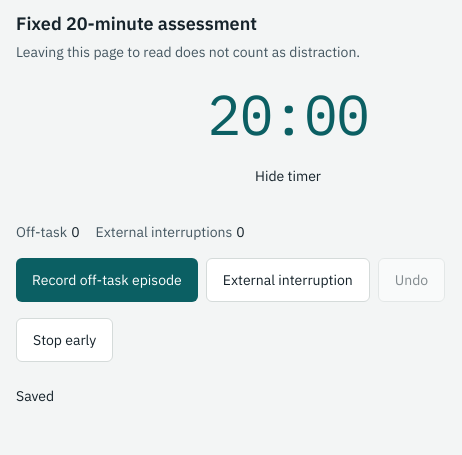
Test: Running › a failed Undo of a sent event renders inside an alert, colored for attention (U15a), message unchanged
Click the button "Record off-task episode": (107, 280) [16,258,198,302]
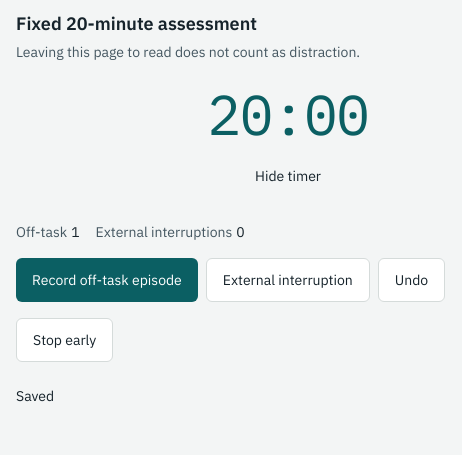
Click the button "Undo": (412, 280) [378,258,445,302]
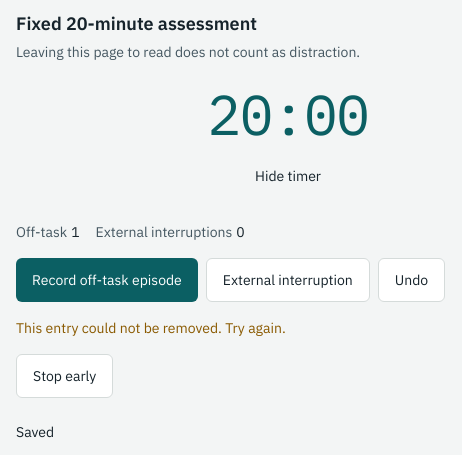
Now the message "This entry could not be removed. Try again." is shown, box [16,319,286,337]
